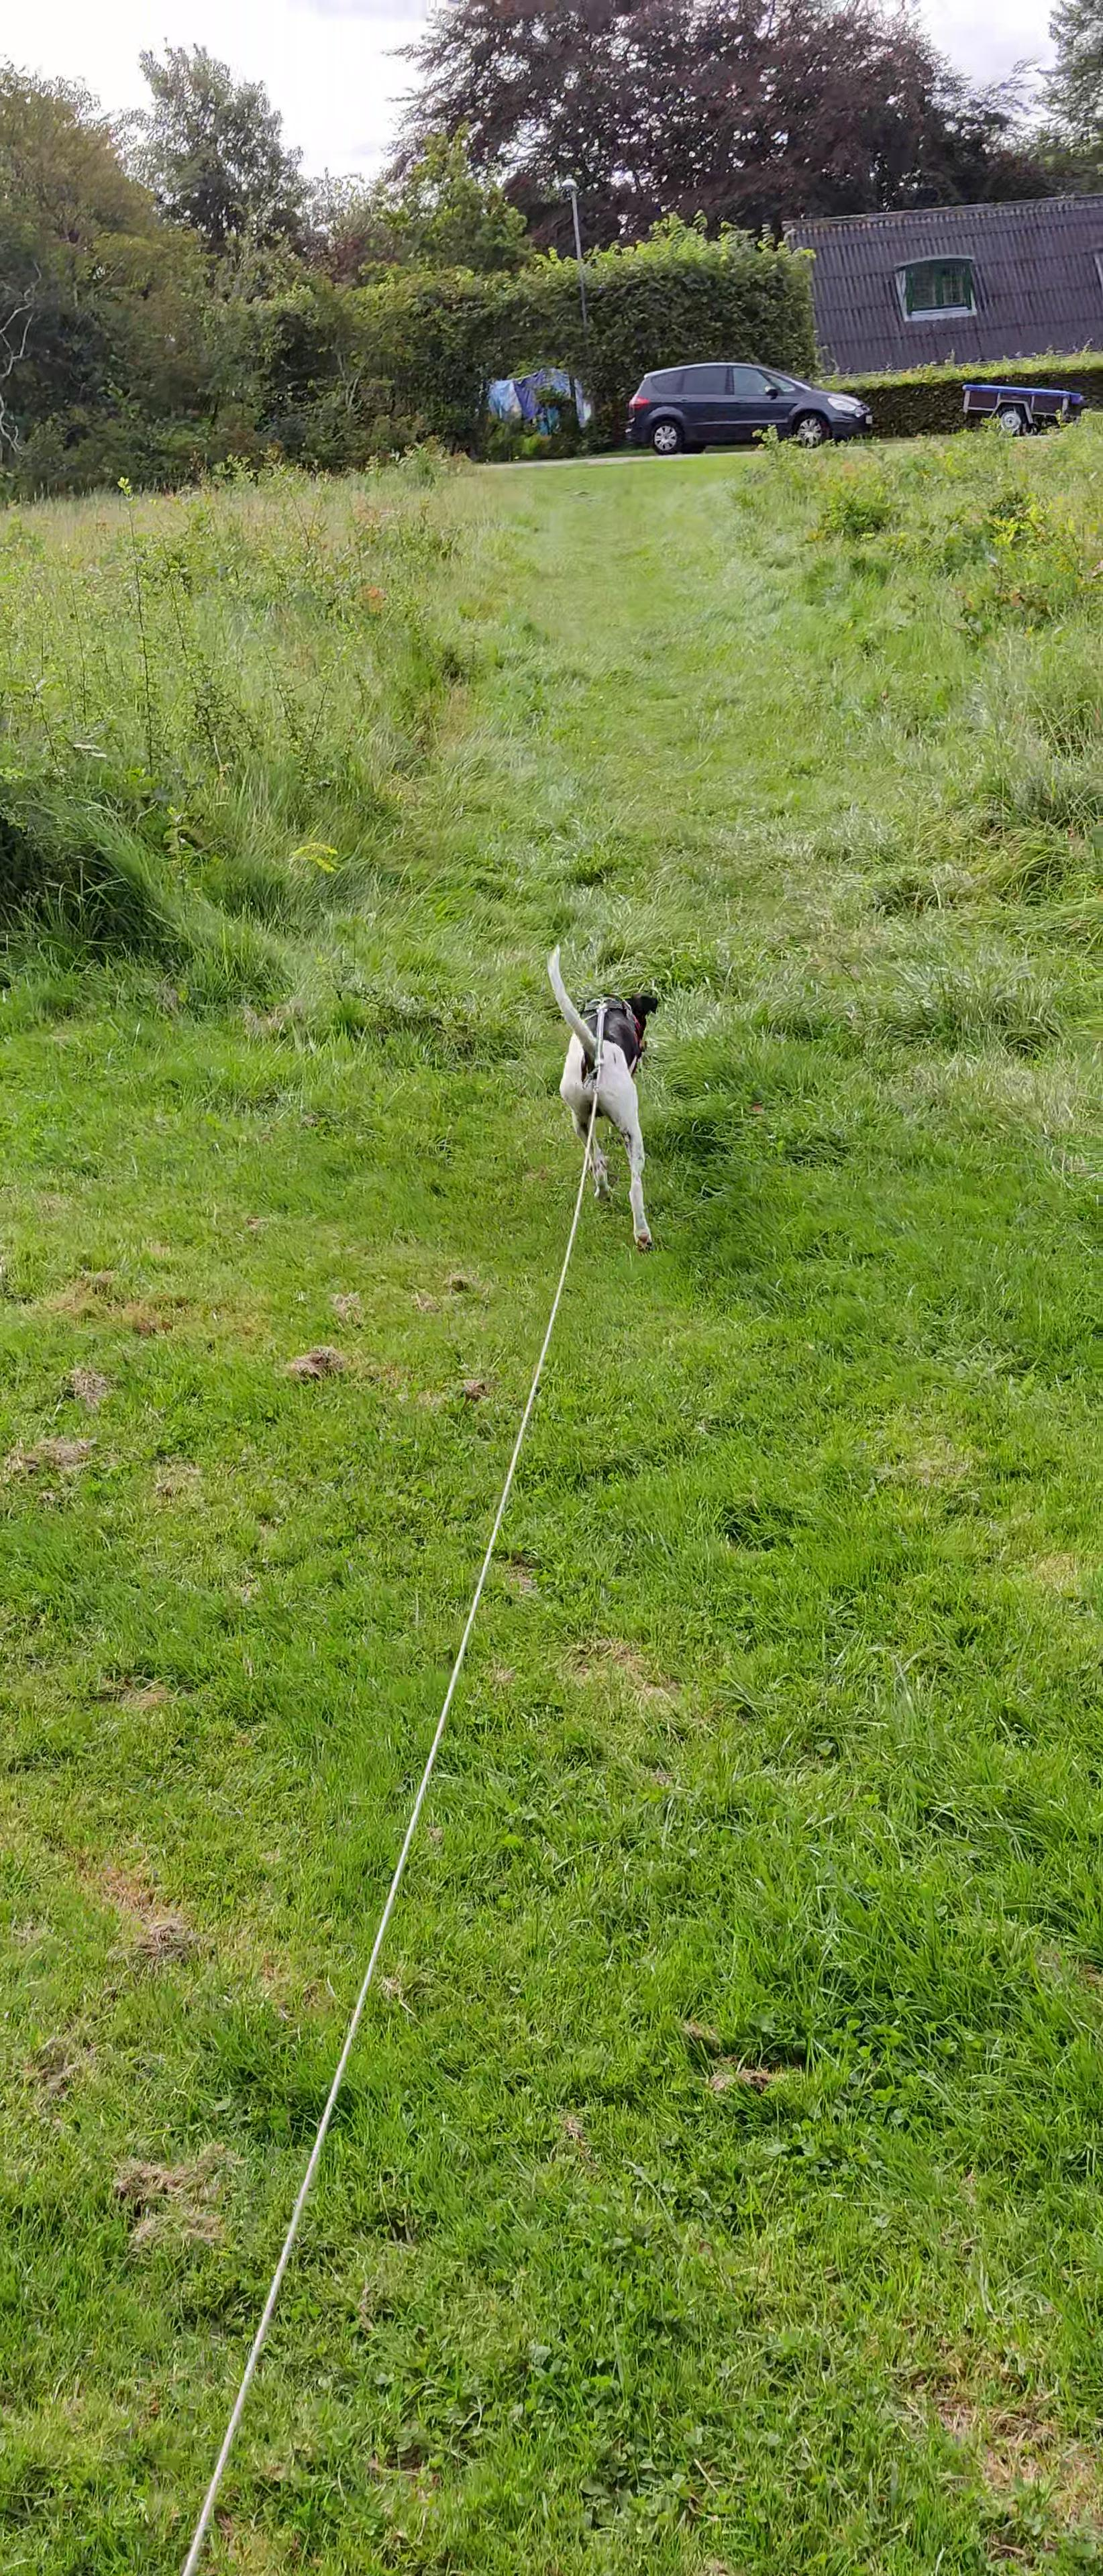Dog: (538, 941, 672, 1257)
